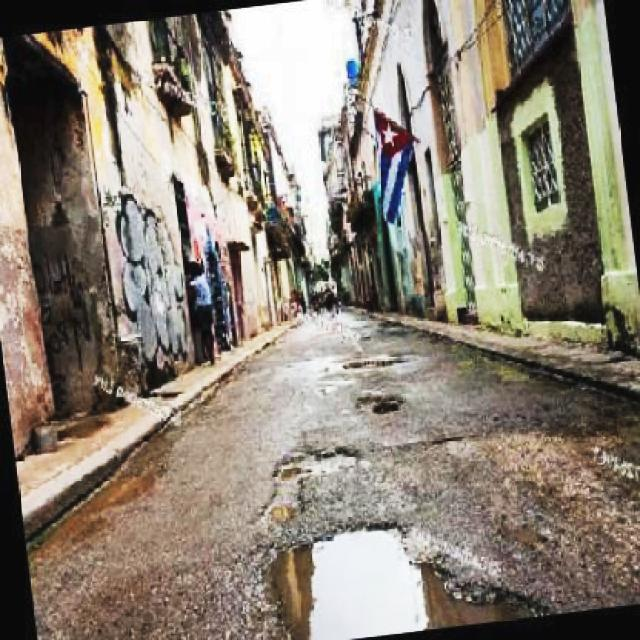pothole: (271, 512, 566, 640), (252, 442, 376, 530), (360, 392, 406, 417)
